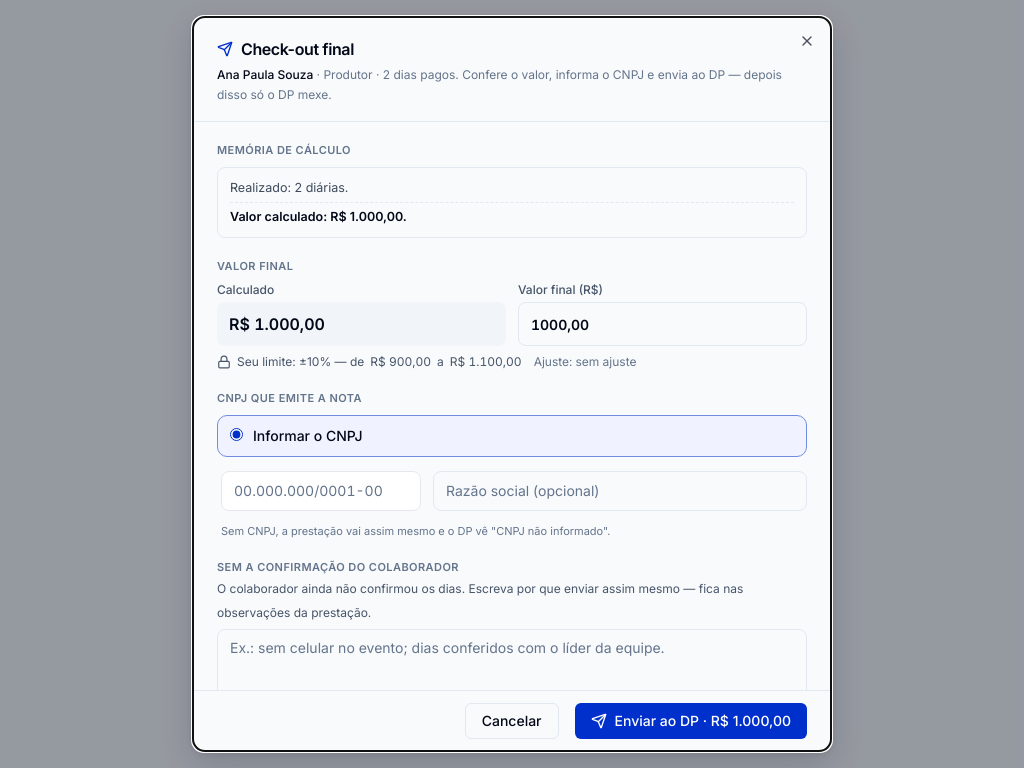
check-out final › sem confirmação pede a justificativa e manda o corpo certo; 409 do servidor vira explicação
This screenshot has width=1024, height=768.
Click the button with test id "prs-enviar-checkout" at x=691, y=721, box [574,703,807,739]
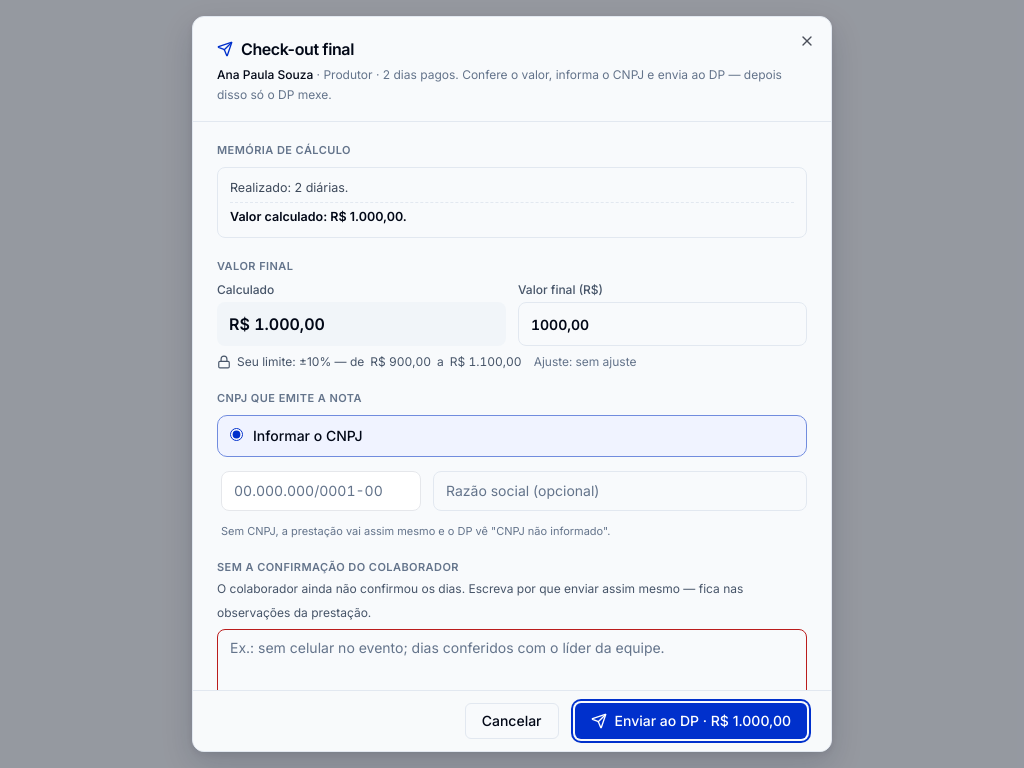
Type "Sem celular no evento." into the text box with test id "prs-ck-justificativa" at x=512, y=669, box [217,629,807,709]
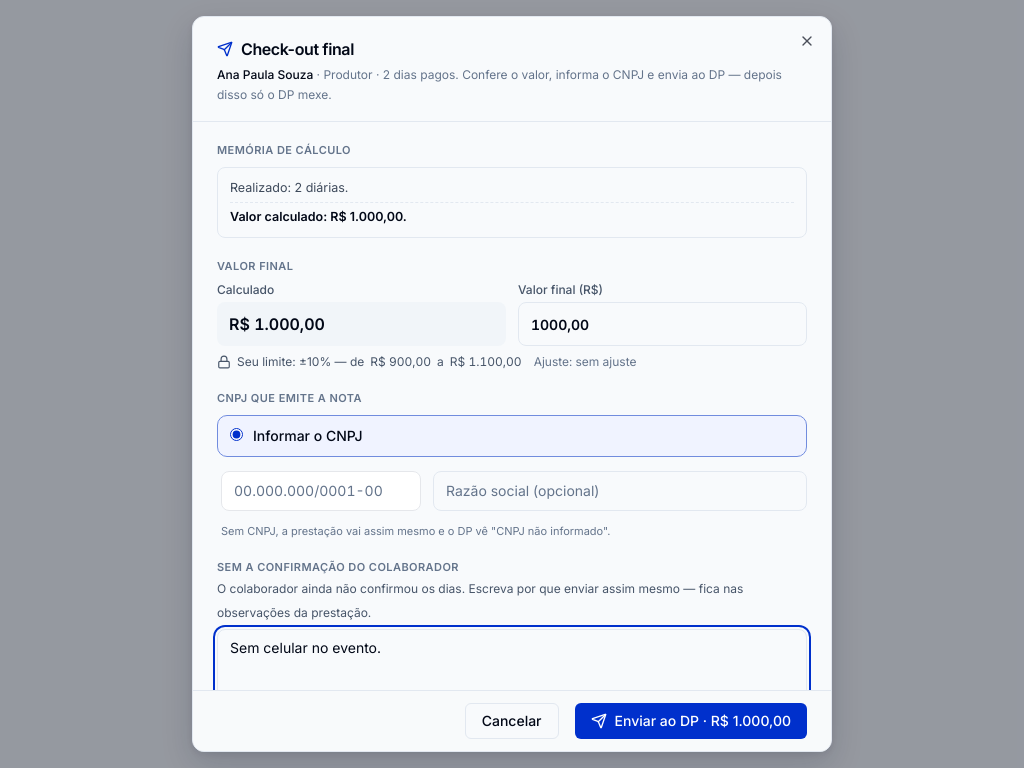
Click the button with test id "prs-enviar-checkout" at x=691, y=721, box [574,703,807,739]
(page scrolled)
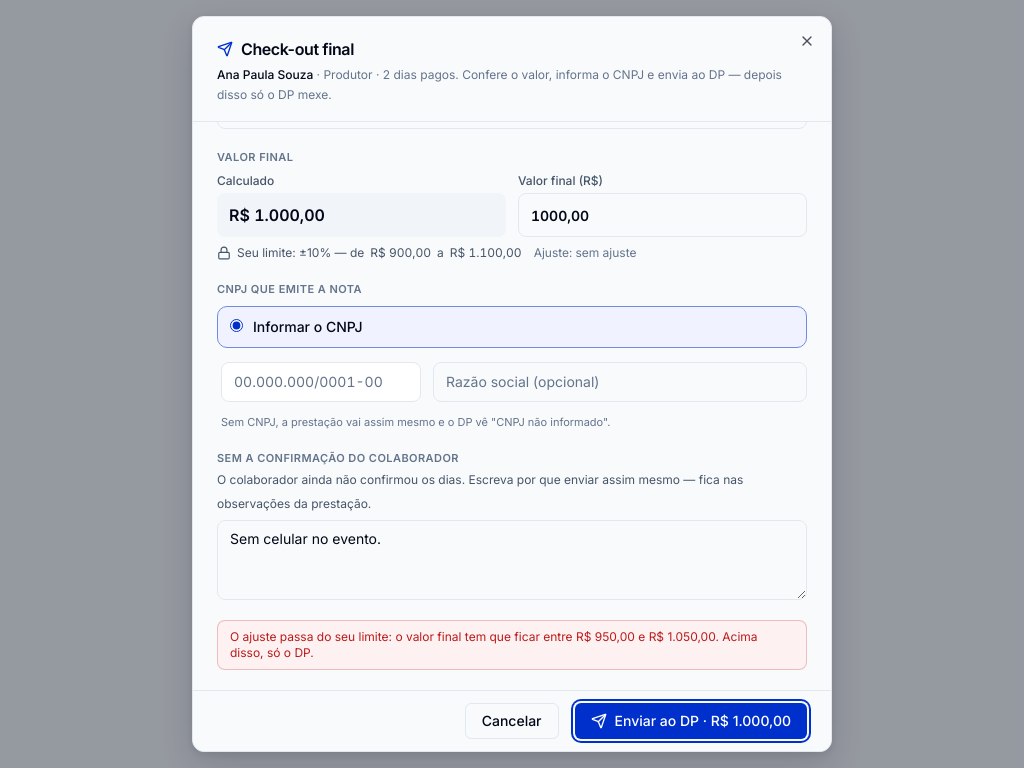
Expected: the message with test id "prs-checkout-erro" shows "entre R$ 950,00 e R$ 1.050,00", [230,629,758,660]
